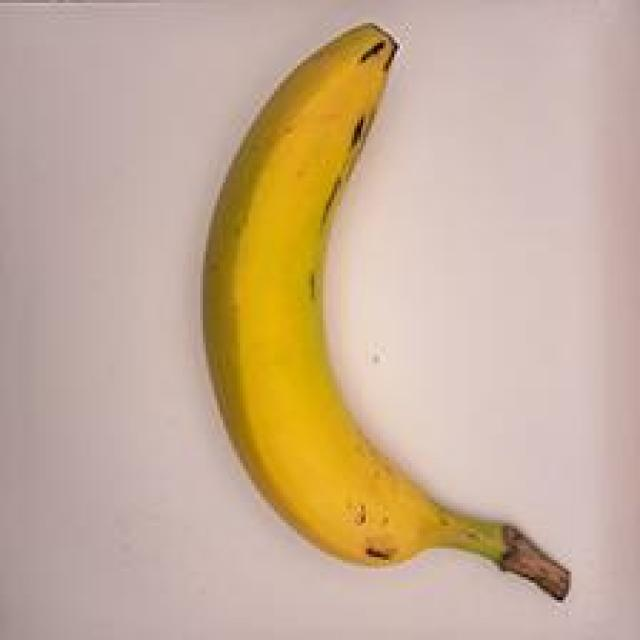Ripe: (197, 11, 592, 616)
